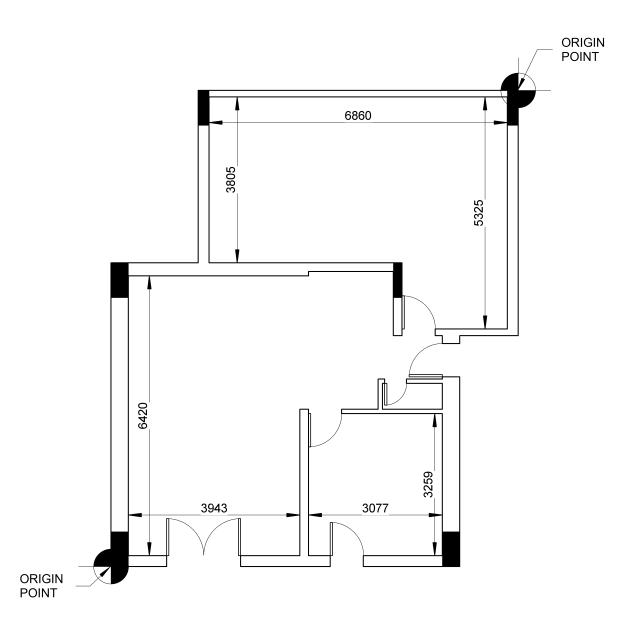Column: (108, 258, 131, 301), (108, 530, 132, 569), (441, 530, 462, 568), (505, 89, 520, 127), (197, 87, 211, 127), (391, 262, 404, 300)
Door: (303, 405, 348, 449), (324, 519, 368, 563), (399, 340, 448, 379), (399, 293, 441, 334), (382, 376, 408, 407)
Double-Door: (158, 517, 250, 568)
